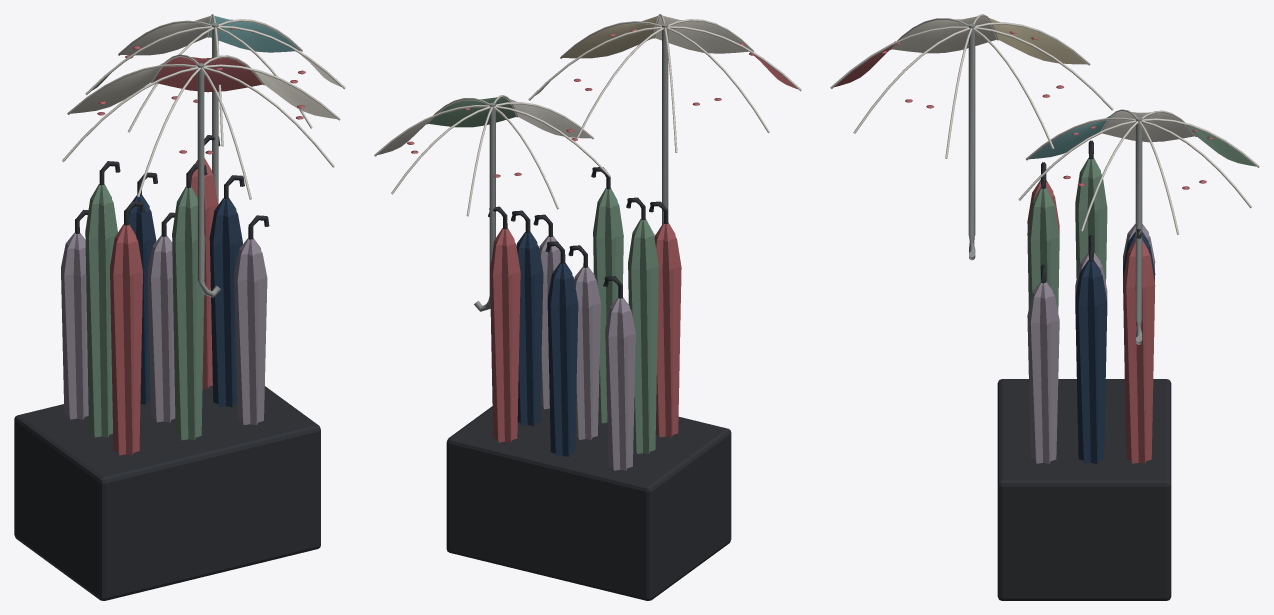
The model's file is shades.glb.
3 renders of one model, left to right at view 1: azimuth 30°, elevation 25°; view 2: azimuth 150°, elevation 25°; view 3: azimuth 270°, elevation 25°, orthographic. The views are drawn at different scales.
Visible parts, largest first — view 1: West_shades; view 2: West_shades; view 3: West_shades.
Boxes of the visible parts, x1,y1,x2,y2 form: West_shades: [14, 14, 345, 600]; West_shades: [374, 14, 801, 600]; West_shades: [830, 14, 1259, 600].
Bounding box in the file's own units: 1.1 × 1.66 × 1.26.
